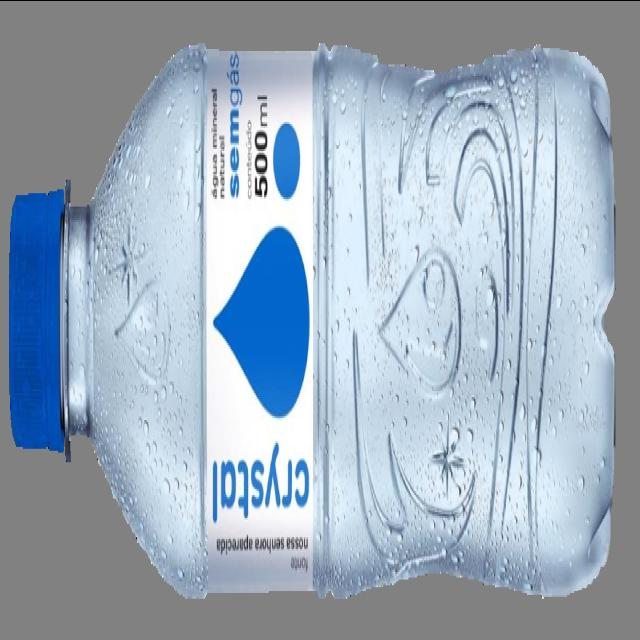bottom: (524, 34, 628, 588)
cap: (6, 134, 86, 537)
